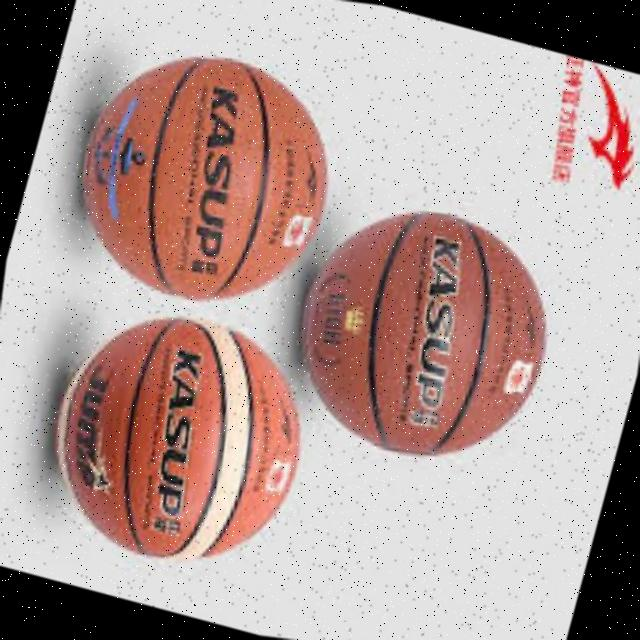ball: (6, 270, 344, 606), (254, 166, 592, 500), (36, 12, 368, 342)
